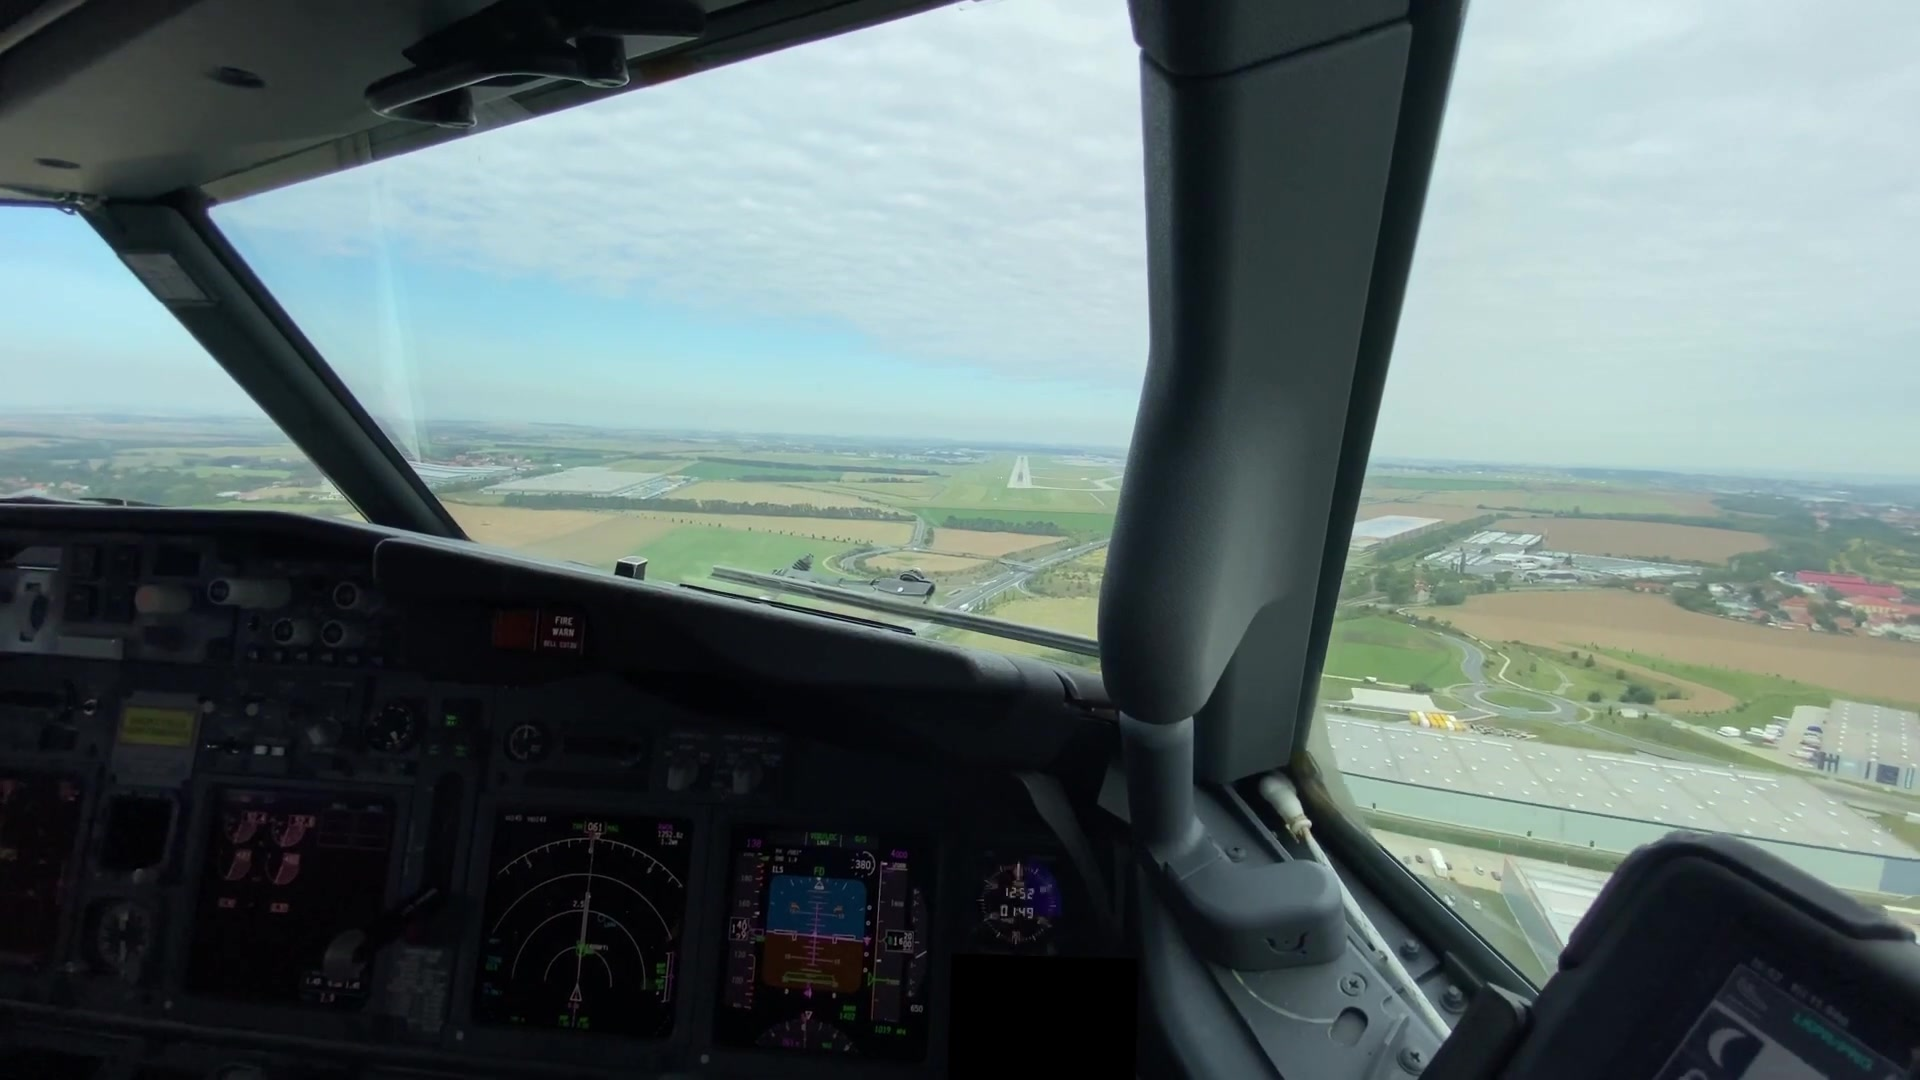runway: (1004, 455, 1035, 491)
